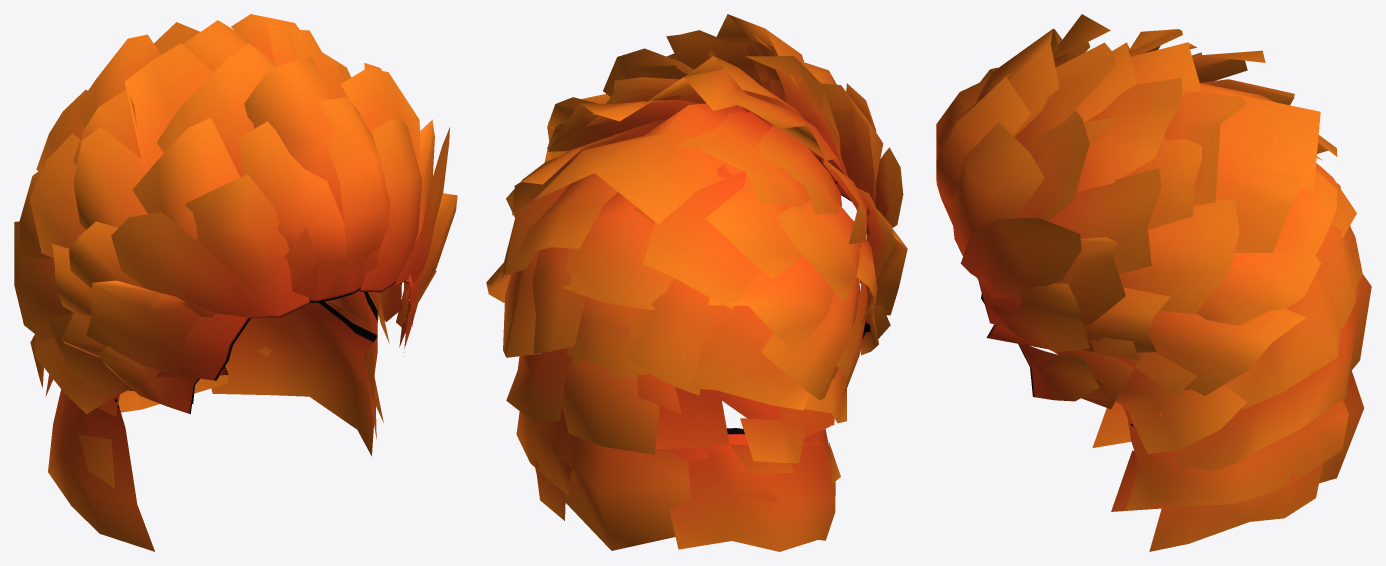
File: 男生发型3_ReUV.fbx
3 renders of one model, left to right at view 1: azimuth 30°, elevation 25°; view 2: azimuth 150°, elevation 25°; view 3: azimuth 270°, elevation 25°, orthographic. The views are drawn at different scales.
Parts seen in each view (by area): view 1: ID294; view 2: ID294; view 3: ID294.
Boxes of the visible parts, box(x1,y1,x2,y2) form: ID294: box(14, 14, 457, 551); ID294: box(486, 14, 907, 551); ID294: box(936, 14, 1371, 551).
Size of the model in its own units: 19.62 by 24.15 by 20.22.
Materials: 1 (1 with a texture image).
